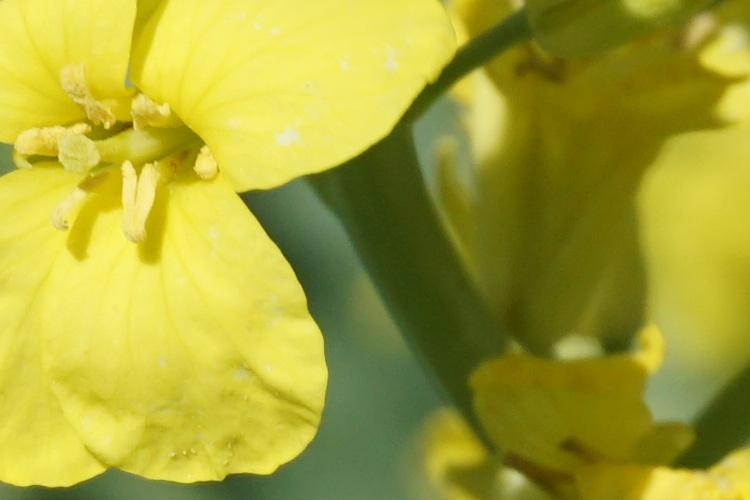yellow: (2, 2, 444, 484), (439, 339, 743, 497)
